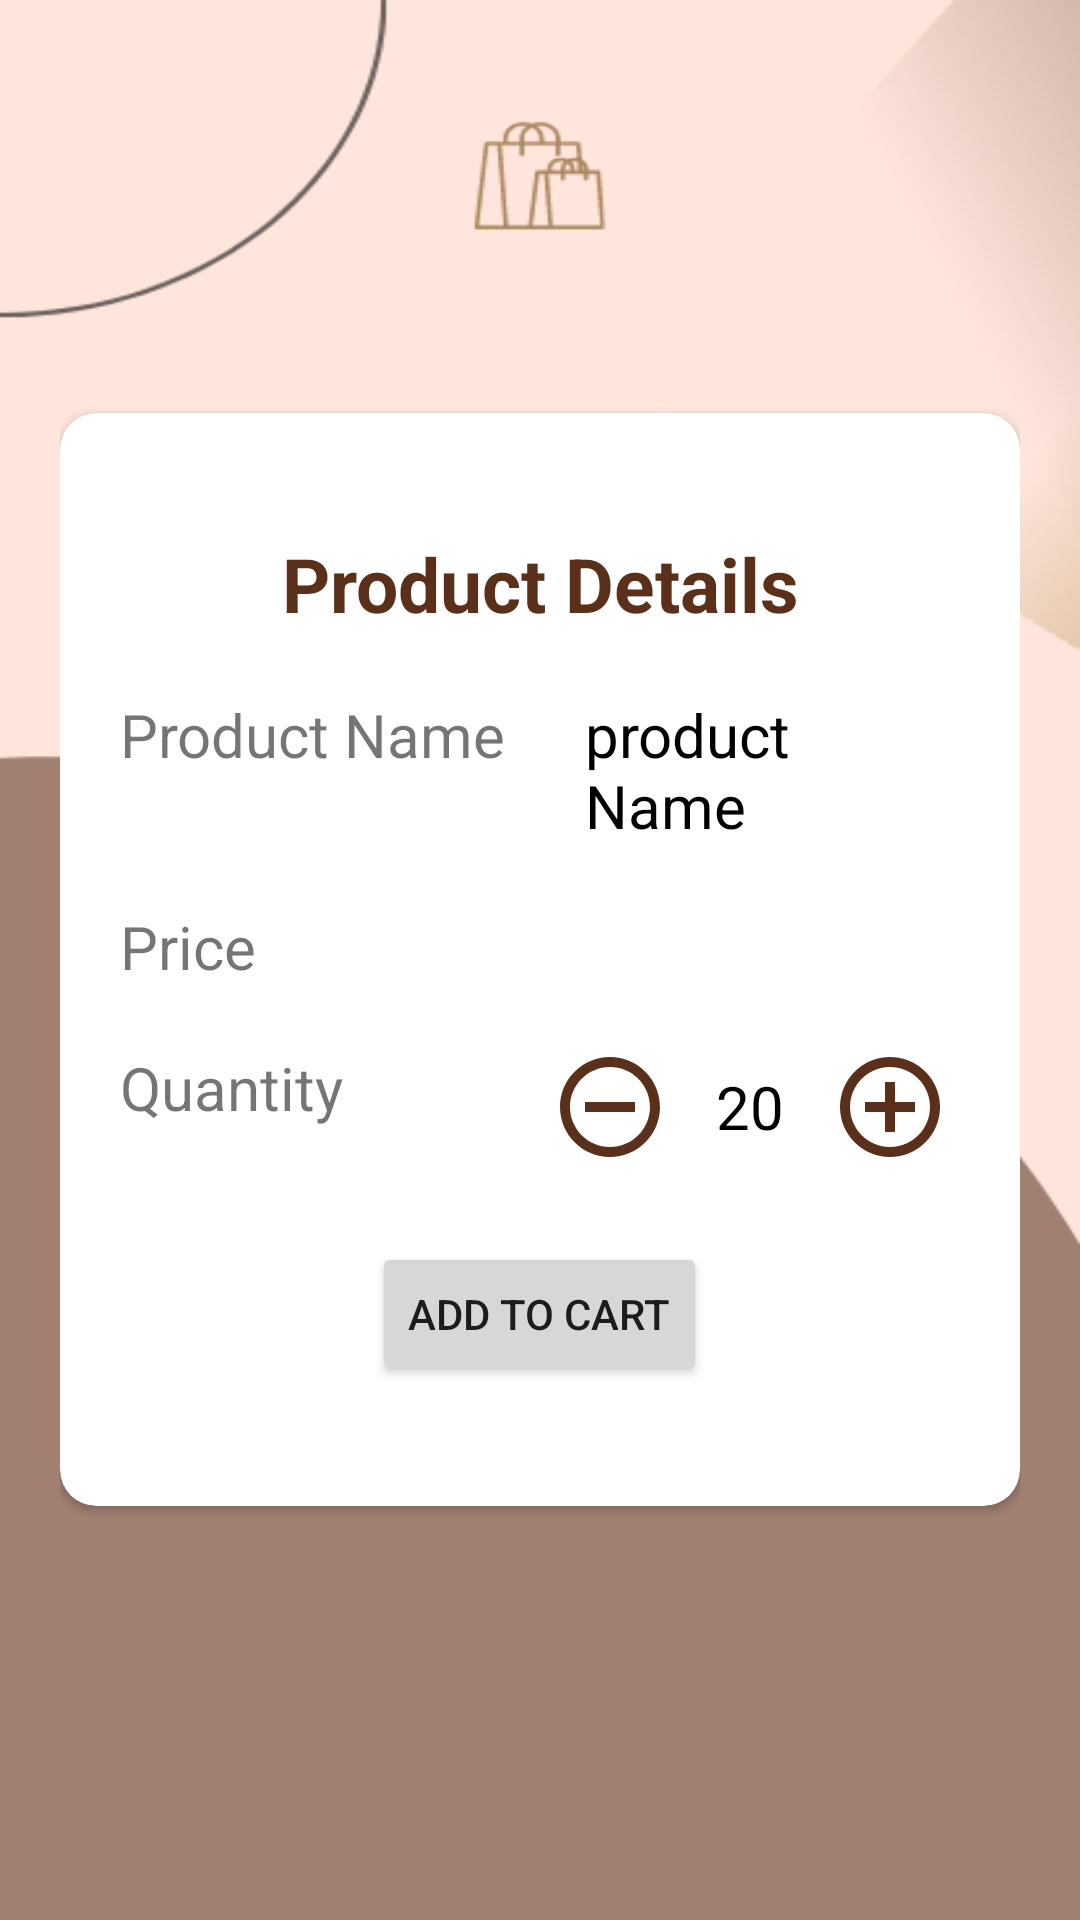

Where icons sit on this 1080x1920 app screen, as detection(x1, y1, x2, y2):
sub: detection(560, 1057, 660, 1157)
